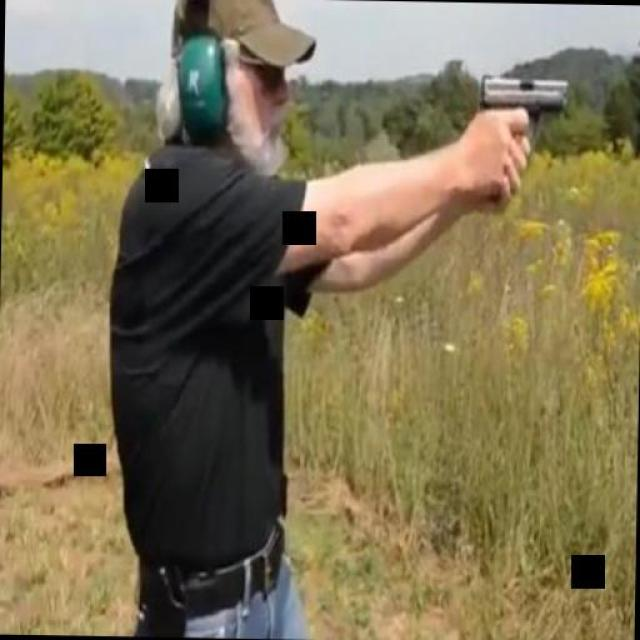gun: (472, 72, 572, 202)
